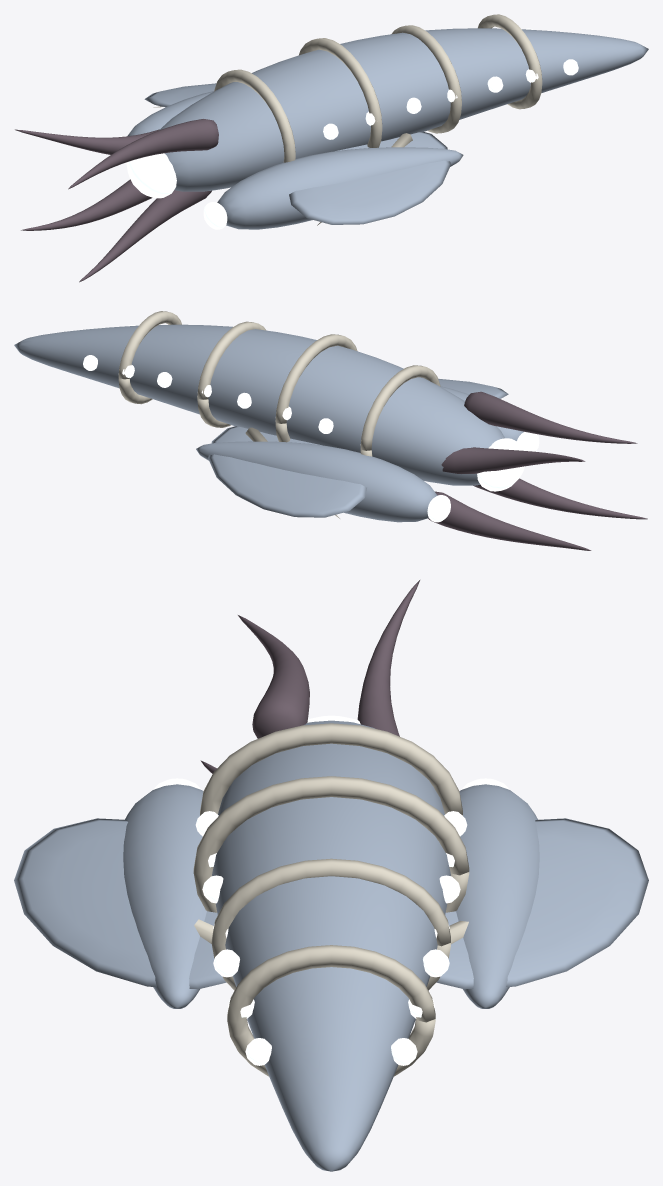
Rendered from organic_large.glb.
3 renders of one model, top to bottom at view 1: azimuth 30°, elevation 25°; view 2: azimuth 150°, elevation 25°; view 3: azimuth 270°, elevation 25°, orthographic. The views are drawn at different scales.
Parts seen in each view (by area): view 1: organic_large; view 2: organic_large; view 3: organic_large.
Part boxes in pixels (x1=…): organic_large: x1=15, y1=14, x2=648, y2=282; organic_large: x1=14, y1=311, x2=647, y2=550; organic_large: x1=14, y1=580, x2=648, y2=1171.
Bounding box in the file's own units: 2 × 0.4268 × 1.06.
